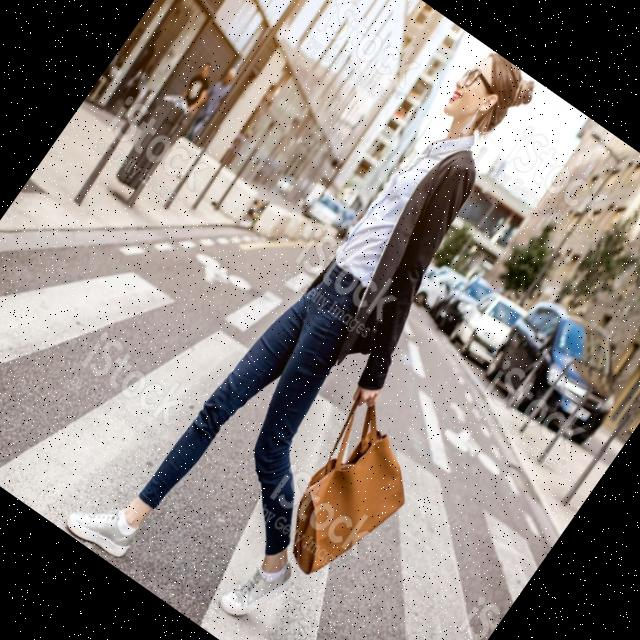Person: (59, 3, 640, 640)
